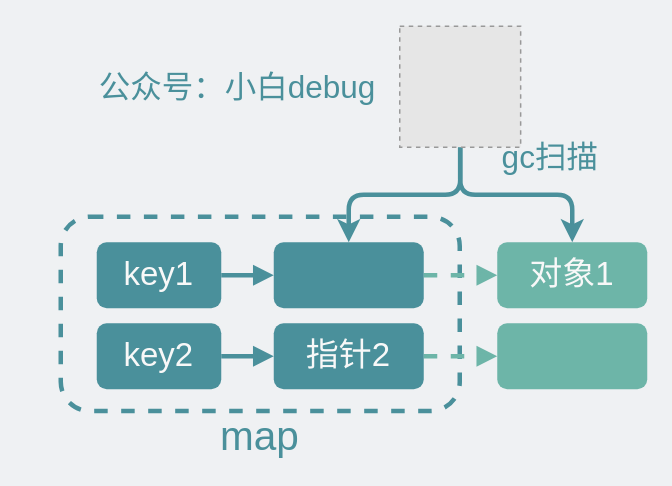
This 672x486 diagram has some shape labels left out. Grey dashed boxes stand in for pictures. Here are the shapes that lost their labels. From the top down, the centre of each, then its label:
At point 348,275: "指针1".
At point 571,355: "对象2".
